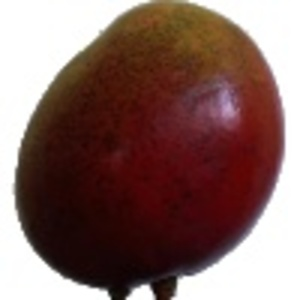manga: (13, 1, 287, 300)
